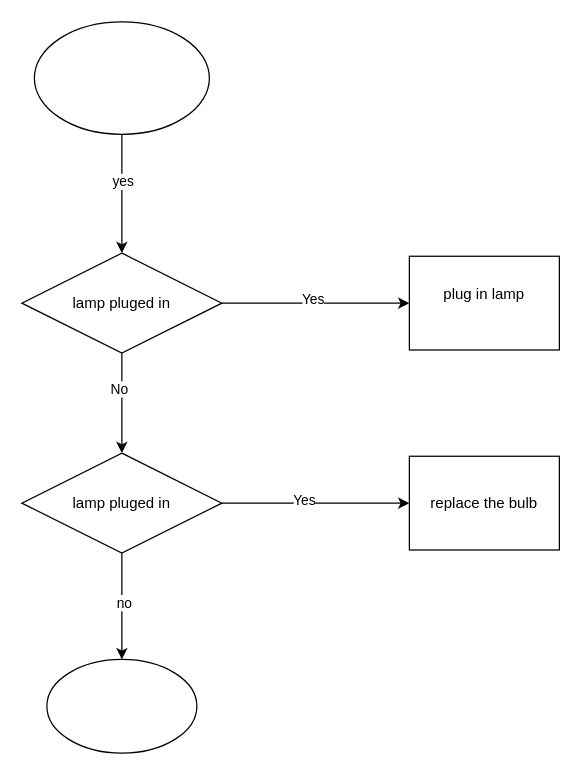
This 581x775 diagram has some shape labels left out. Here are the shapes that lost their labels. From the top down, the box of each, then its label:
(33, 21, 209, 134): lamp does not work.
(46, 658, 197, 753): repair the bulb
